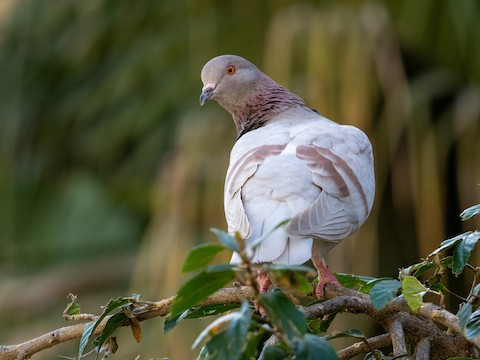pigeon: (194, 51, 378, 304)
